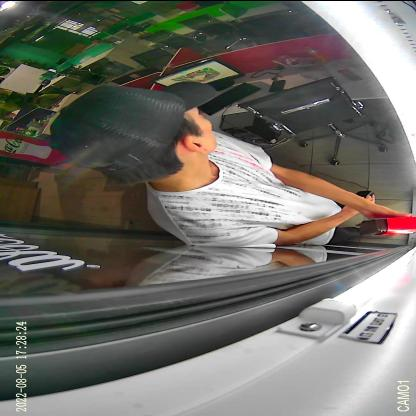red: (356, 215, 416, 235)
